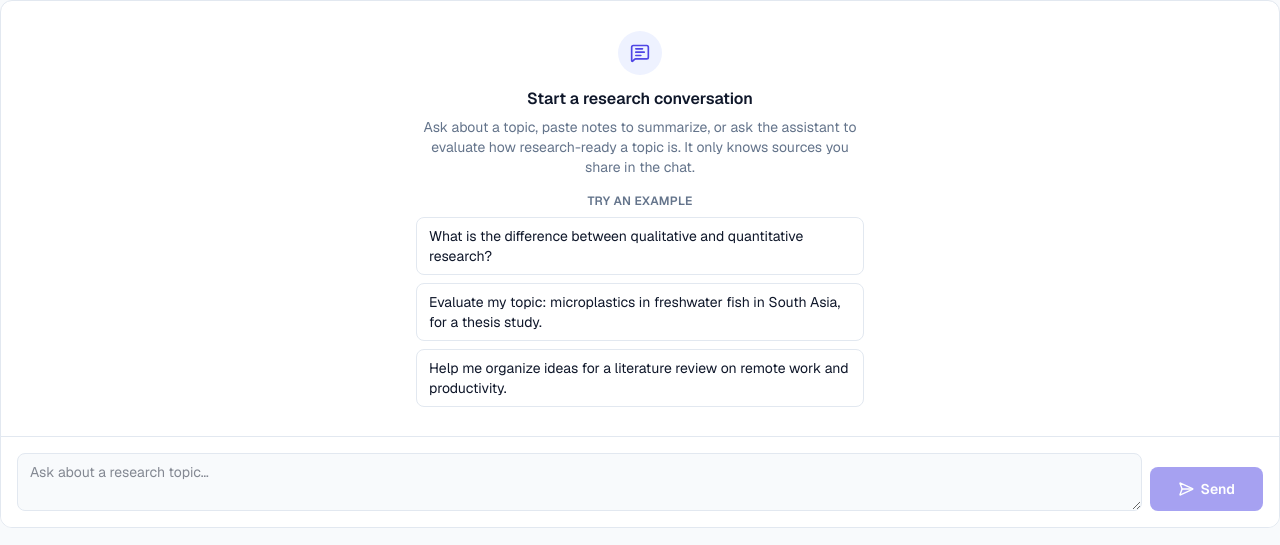
Scenario: Chat › asks for text instead of sending an empty message
The width and height of the screenshot is (1280, 545).
Click the button "Send" at x=1207, y=489, box [1150,467,1263,511]
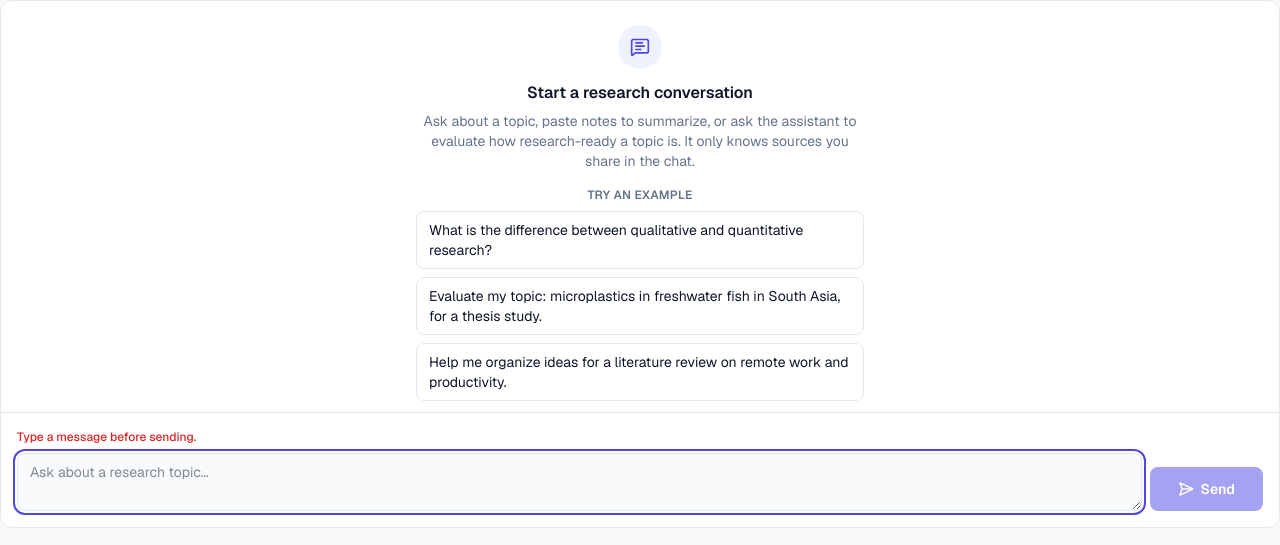
Expected: the text "Type a message before sending." is shown, [17,429,196,445]
